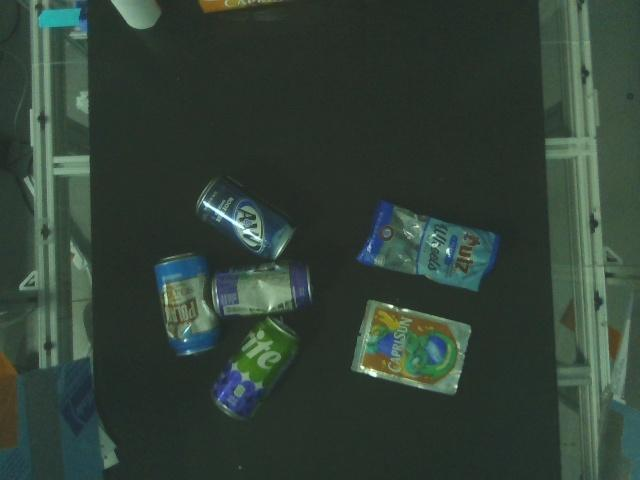cardboard: (112, 0, 163, 31), (201, 0, 288, 14)
metal: (213, 317, 300, 421), (194, 175, 295, 261), (155, 254, 218, 357), (212, 265, 314, 318)
plastic: (358, 202, 498, 293), (350, 298, 473, 394)
